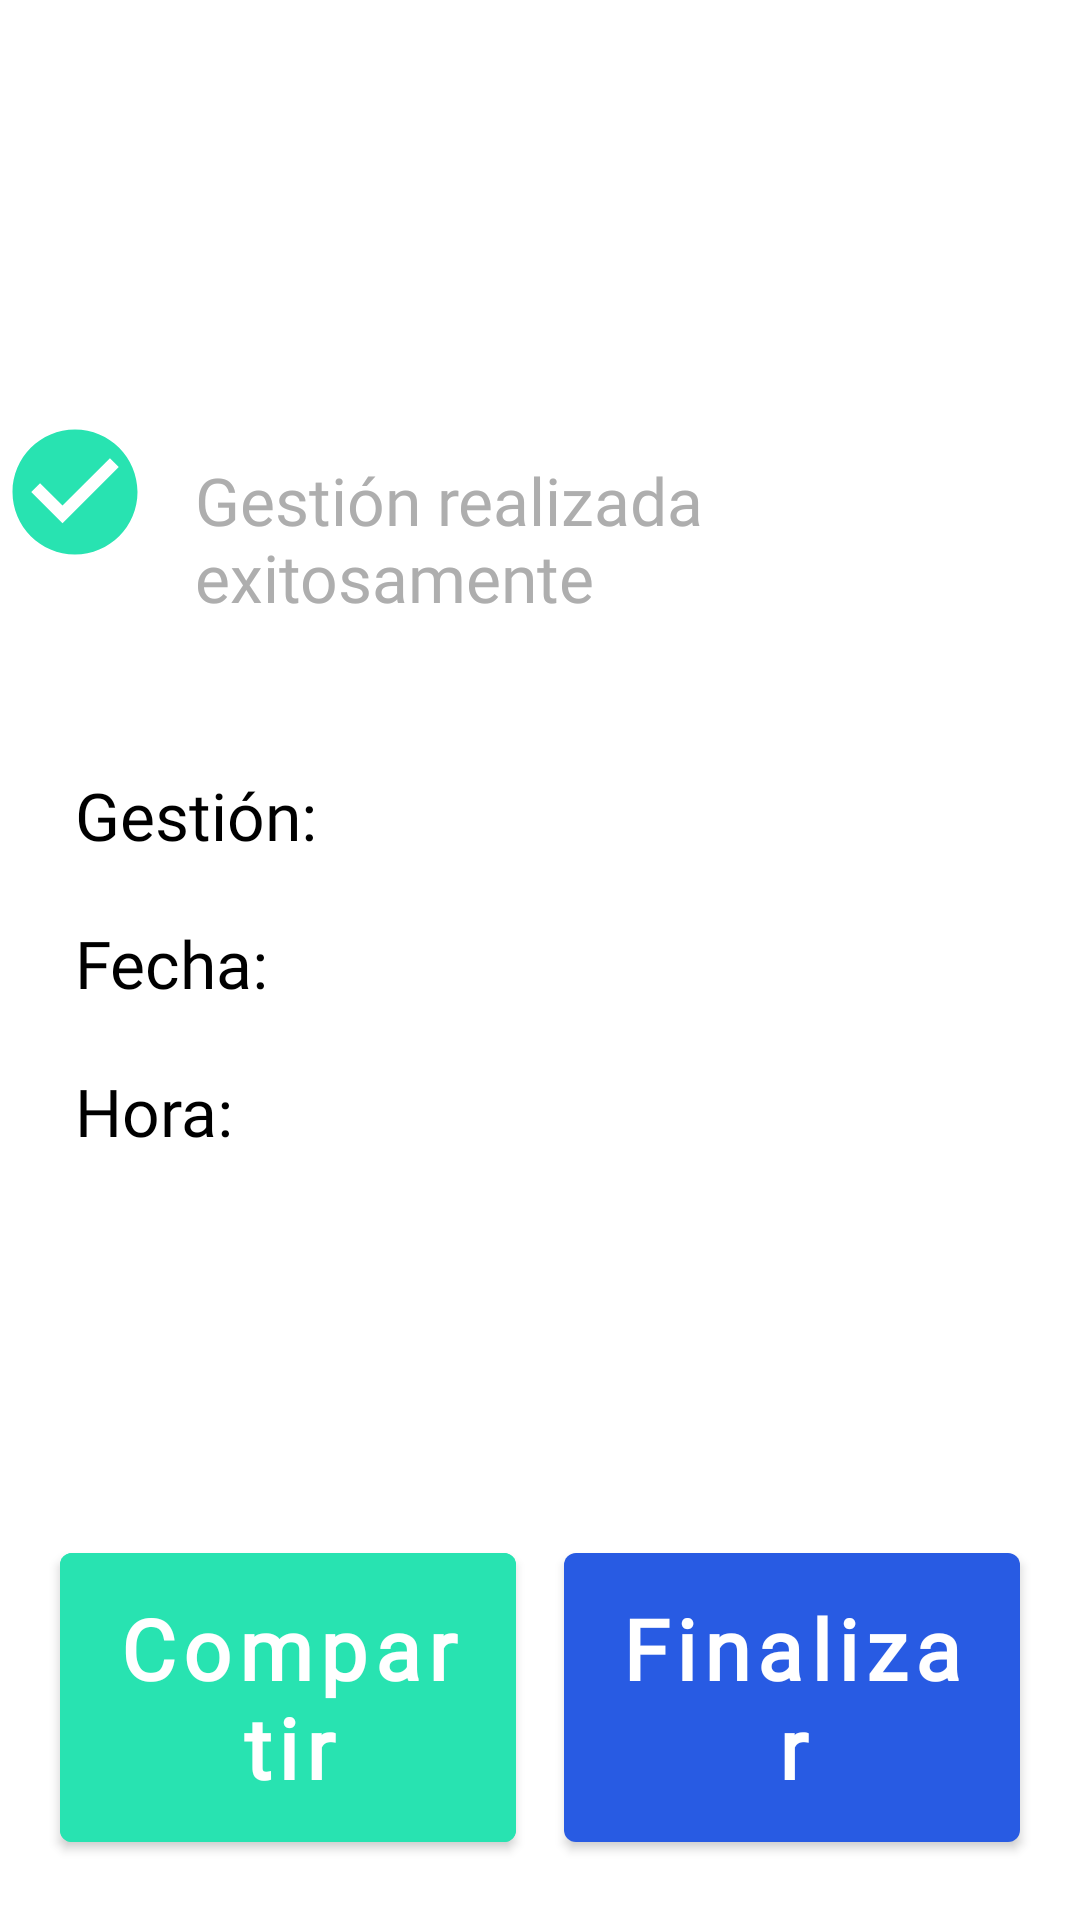

Screen size 1080px x 1920px. Icon name, then its box in pixels as [x1, y1, x2, y2]:
Icono de cheque: [12, 429, 138, 555]
